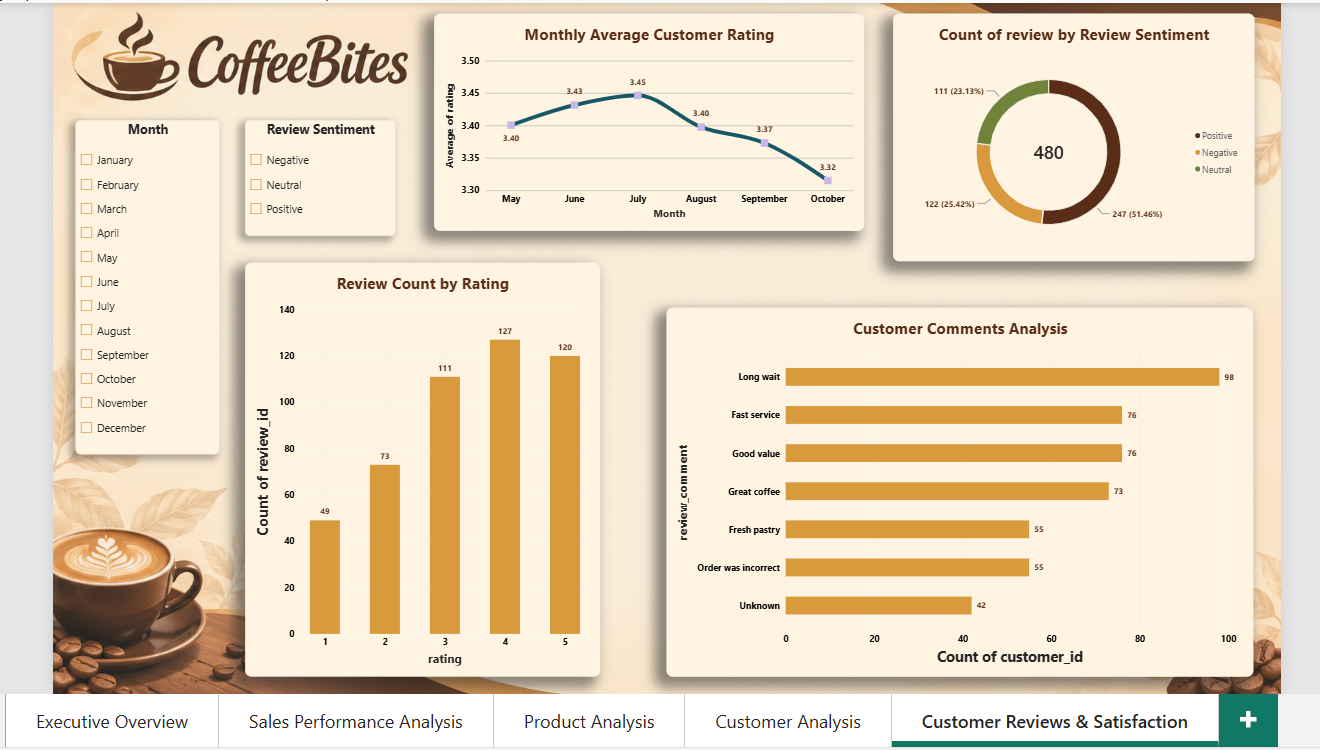

What the dashboard file says about the page in this screenshot:
{"tool":"powerbi","page":{"name":"Customer Reviews & Satisfaction","canvas":[1920,1080],"ordinal":4},"visuals":[{"type":"lineChart","title":"Monthly Average Customer Rating","fields":{"Category":["Transaction_raw_Clean.order_datetime.Variation.Date Hierarchy.Month"],"Y":["Avg(Customer_Reviews_Clean.rating)"]},"box":[595,17.5,672.5,340],"z":0},{"type":"donutChart","title":"Count of review by Review Sentiment","fields":{"Category":["Customer_Reviews_Clean.Review Sentiment"],"Y":["CountNonNull(Customer_Reviews_Clean.review_id)"]},"box":[1312.5,17.5,565,387.5],"z":1},{"type":"clusteredColumnChart","title":"Review Count by Rating","fields":{"Category":["Customer_Reviews_Clean.rating"],"Y":["CountNonNull(Customer_Reviews_Clean.review_id)"]},"box":[300,405,555,647.5],"z":2},{"type":"barChart","title":"Customer Comments Analysis","fields":{"Category":["Customer_Reviews_Clean.review_comment"],"Y":["CountNonNull(Customer_Reviews_Clean.customer_id)"]},"box":[960,475,917.5,577.5],"z":3},{"type":"slicer","title":"Review Sentiment","fields":{"Values":["Customer_Reviews_Clean.Review Sentiment"]},"box":[300,182.5,235.6,181.1],"z":4},{"type":"slicer","title":"Month","fields":{"Values":["Transaction_raw_Clean.order_datetime.Variation.Date Hierarchy.Month"]},"box":[35,182.5,225,522.5],"z":5}]}

Visuals, with their boxes on the page's 1920x1080 design canvas (x1, y1, x2, y2). These are canvas units, not pixel positions in the 1320x750 screenshot, which may show the page scaled, cropped or inside an application window:
"Monthly Average Customer Rating" lineChart: 595:18:1268:358
"Count of review by Review Sentiment" donutChart: 1312:18:1878:405
"Review Count by Rating" clusteredColumnChart: 300:405:855:1052
"Customer Comments Analysis" barChart: 960:475:1878:1052
"Review Sentiment" slicer: 300:182:536:364
"Month" slicer: 35:182:260:705
